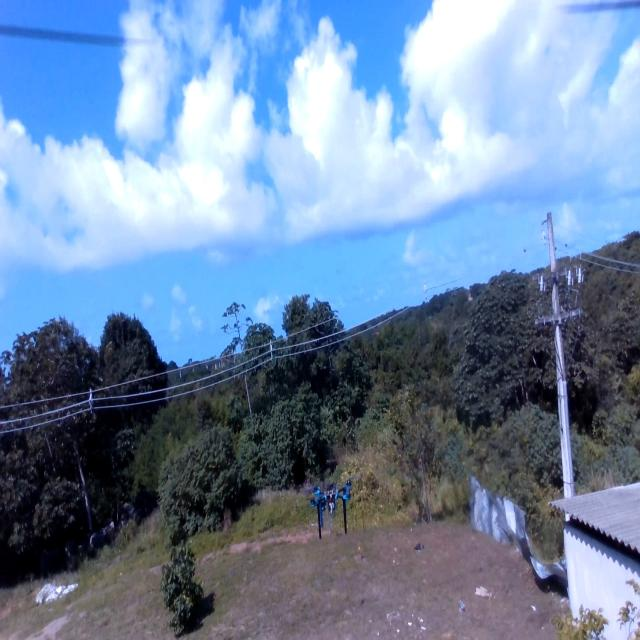-uav-: (310, 468, 358, 550)
